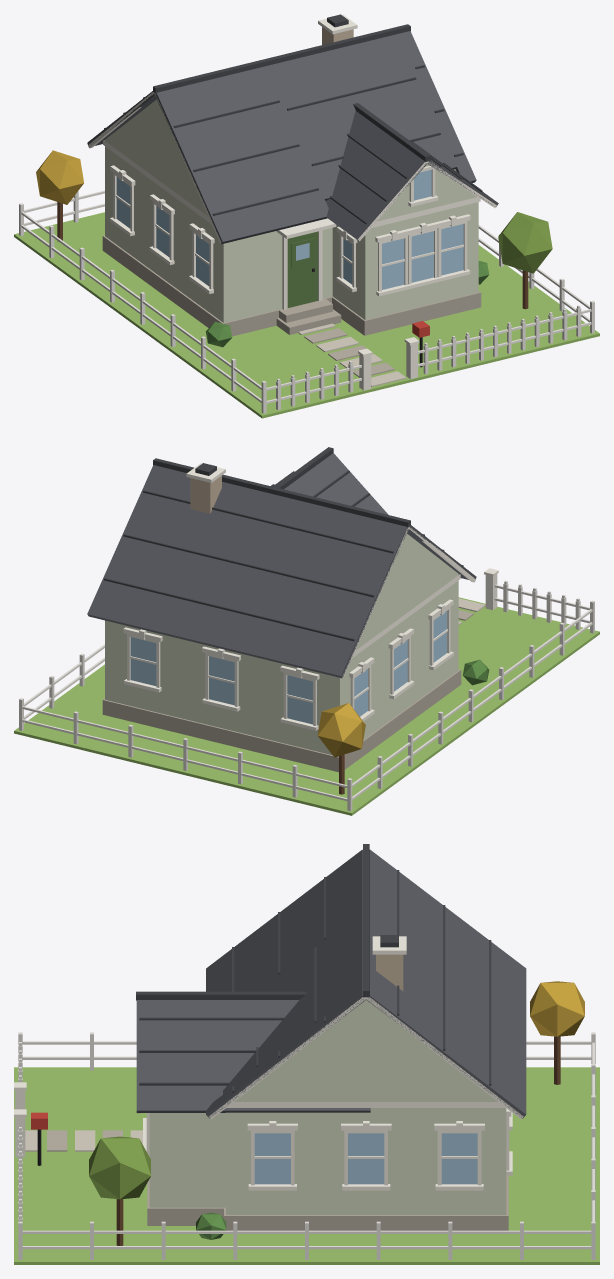
File: MustakilEv_avrupa_2_3_Hafif.fbx
3 renders of one model, top to bottom at view 1: azimuth 30°, elevation 25°; view 2: azimuth 150°, elevation 25°; view 3: azimuth 270°, elevation 25°, orthographic. The views are drawn at different scales.
Visible parts, largest first — view 1: MustakilEv_avrupa_2_3_Hafif; view 2: MustakilEv_avrupa_2_3_Hafif; view 3: MustakilEv_avrupa_2_3_Hafif.
Boxes of the visible parts, x1,y1,x2,y2 form: MustakilEv_avrupa_2_3_Hafif: [14, 14, 599, 418]; MustakilEv_avrupa_2_3_Hafif: [14, 447, 599, 815]; MustakilEv_avrupa_2_3_Hafif: [14, 844, 599, 1264].
Bounding box in the file's own units: 10.83 × 6.92 × 13.77.
